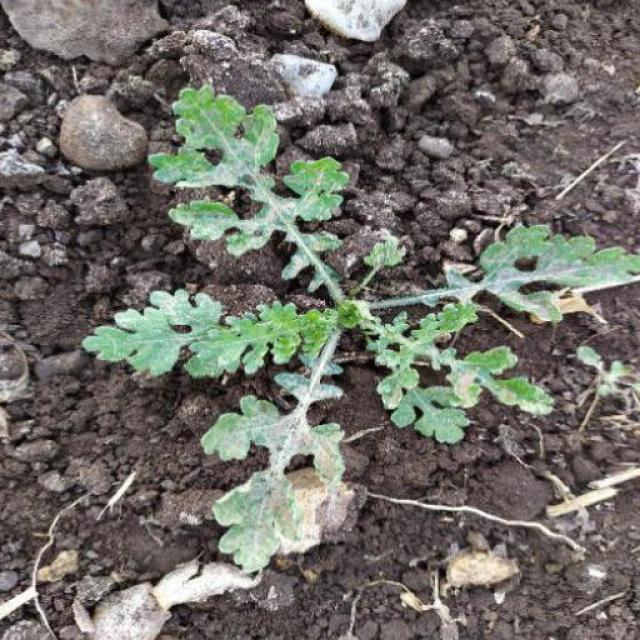weed: (81, 80, 640, 575)
